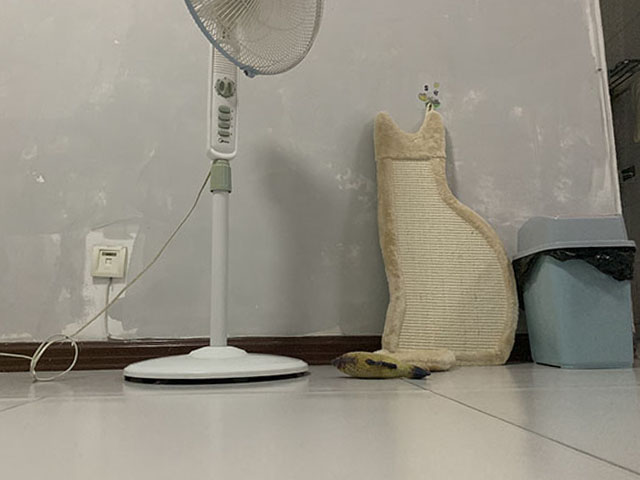trashcan: (507, 212, 640, 370)
wire: (84, 170, 210, 329), (1, 329, 80, 383)
